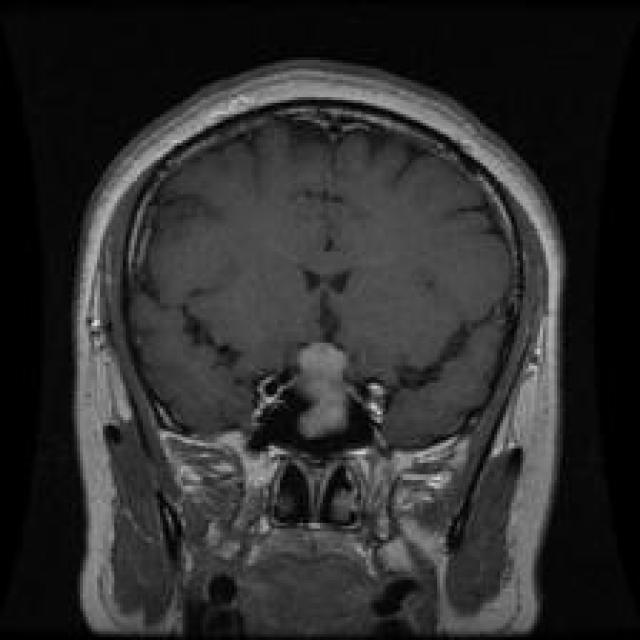pituitary_tumor: (281, 326, 374, 451)
